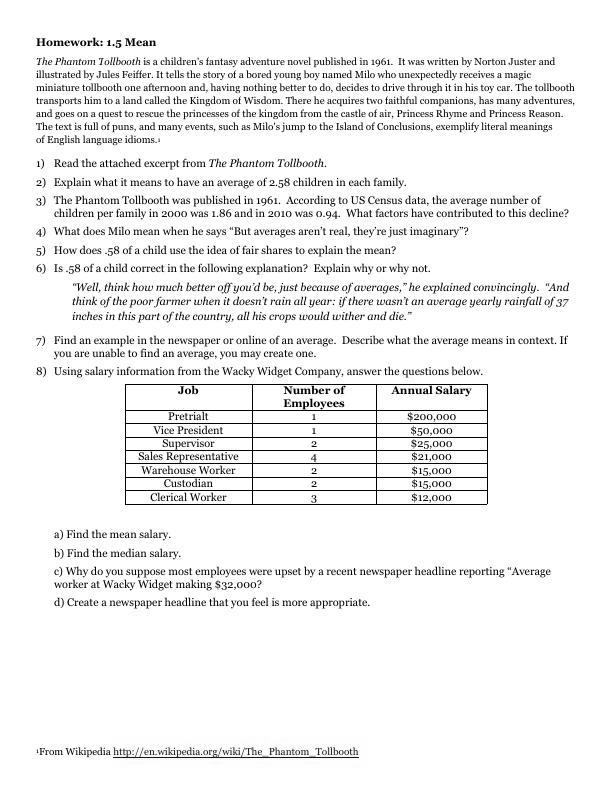table: (118, 380, 494, 510)
text: (32, 154, 574, 378), (32, 54, 585, 149), (49, 529, 554, 623), (36, 744, 366, 767), (33, 36, 159, 51)
